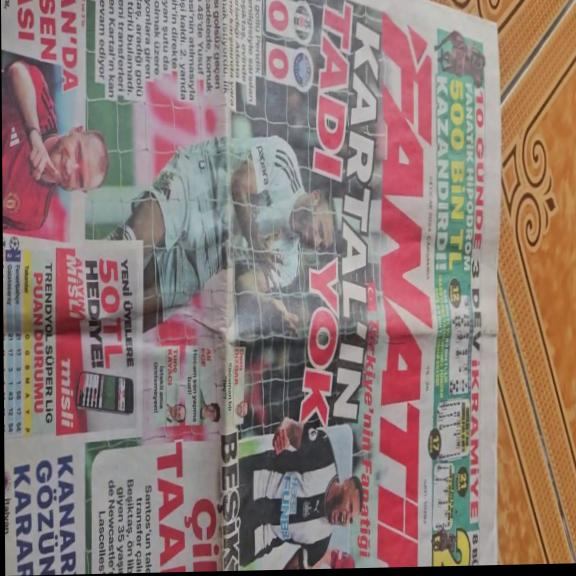Kertas: (234, 18, 500, 566), (5, 0, 235, 560)
